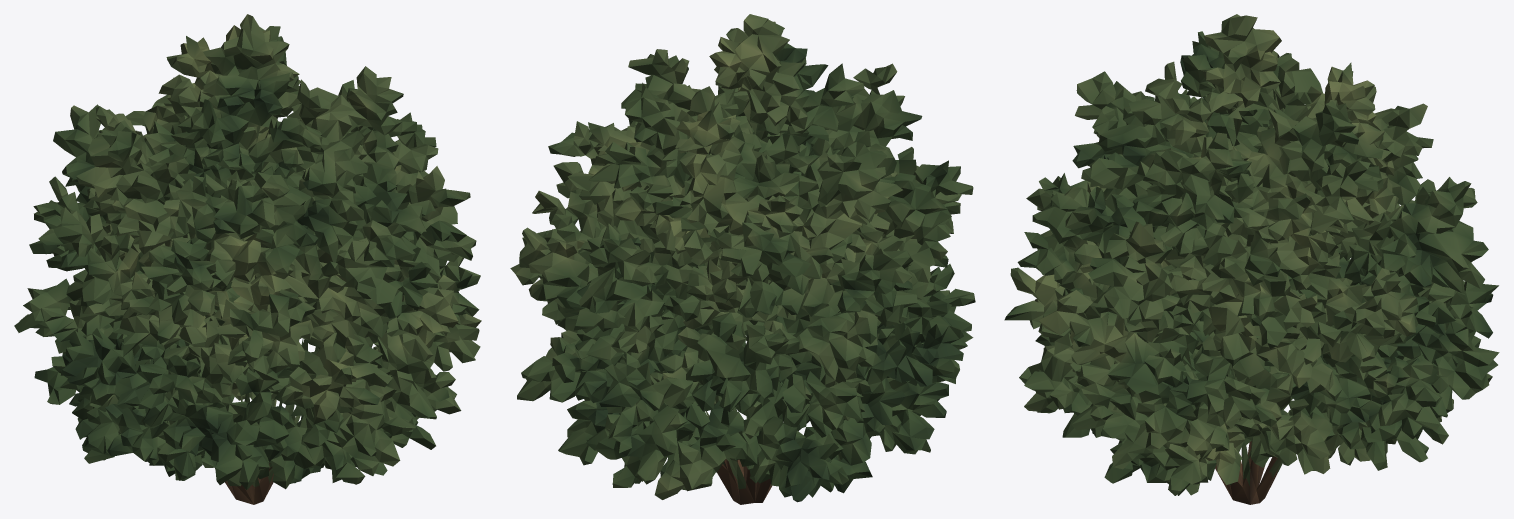
Rendered from Arbusto.glb.
3 renders of one model, left to right at view 1: azimuth 30°, elevation 25°; view 2: azimuth 150°, elevation 25°; view 3: azimuth 270°, elevation 25°, orthographic.
Visible parts, largest first — view 1: world; view 2: world; view 3: world.
Boxes of the visible parts, bbox=[...] form: world: bbox=[14, 14, 481, 504]; world: bbox=[510, 14, 975, 504]; world: bbox=[1004, 14, 1499, 504].
Size of the model in its own units: 1.66 by 1.89 by 1.76.
Materials: 1 (1 with a texture image).
